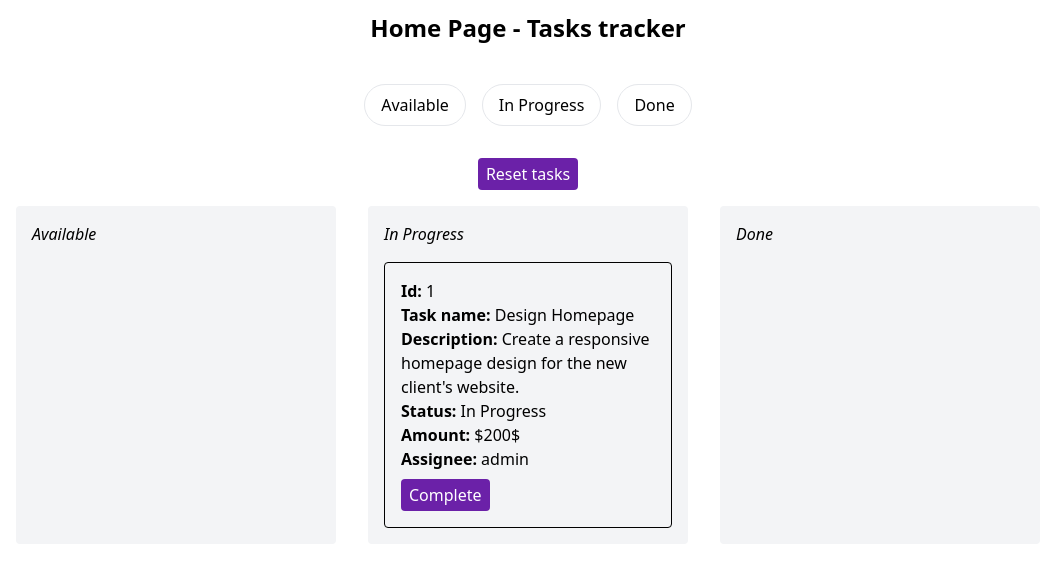
TasksTracker › should complete task for current logged in user when clicking complete button
Click the button "Complete".
click(445, 495)  # box [401,479,490,511]
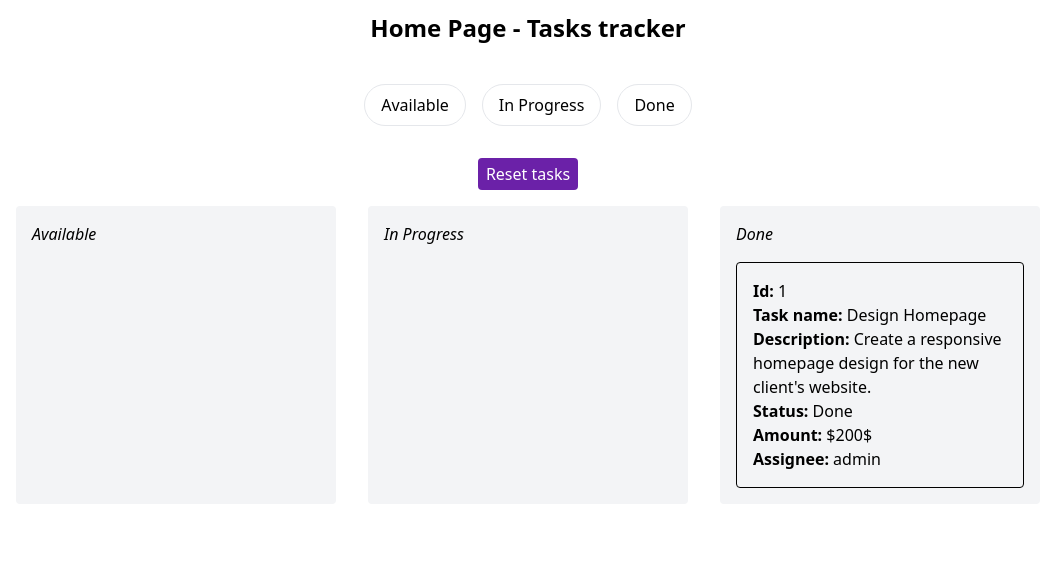
Expected: the button "Complete" is gone
Expected: the number of buttons "Done" is 3, [617,84,692,126]; [736,223,773,245]; [753,400,853,422]
